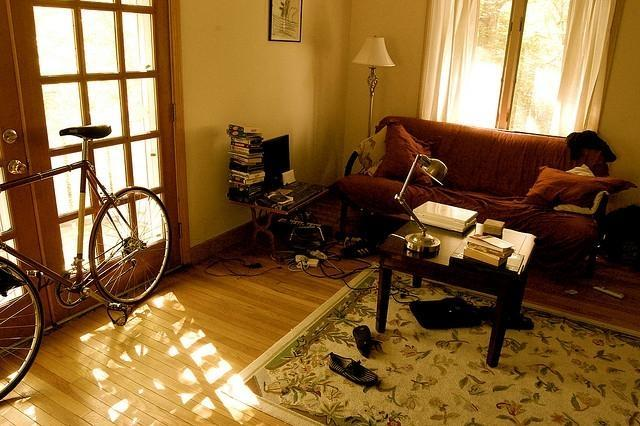bicycle: (0, 126, 172, 396)
